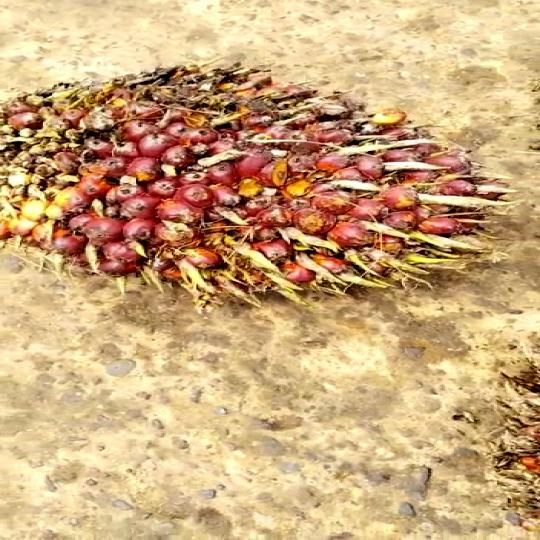masak: (0, 61, 502, 309)
